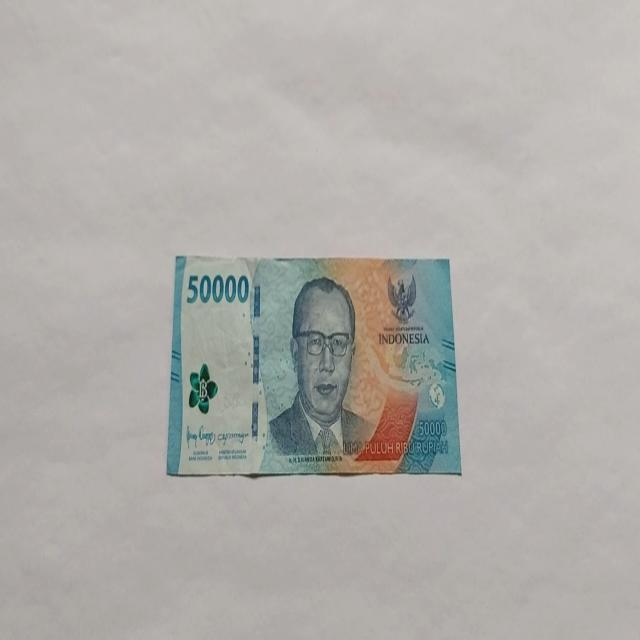lima puluh ribu rupiah: (166, 252, 462, 478), (262, 274, 378, 468)
